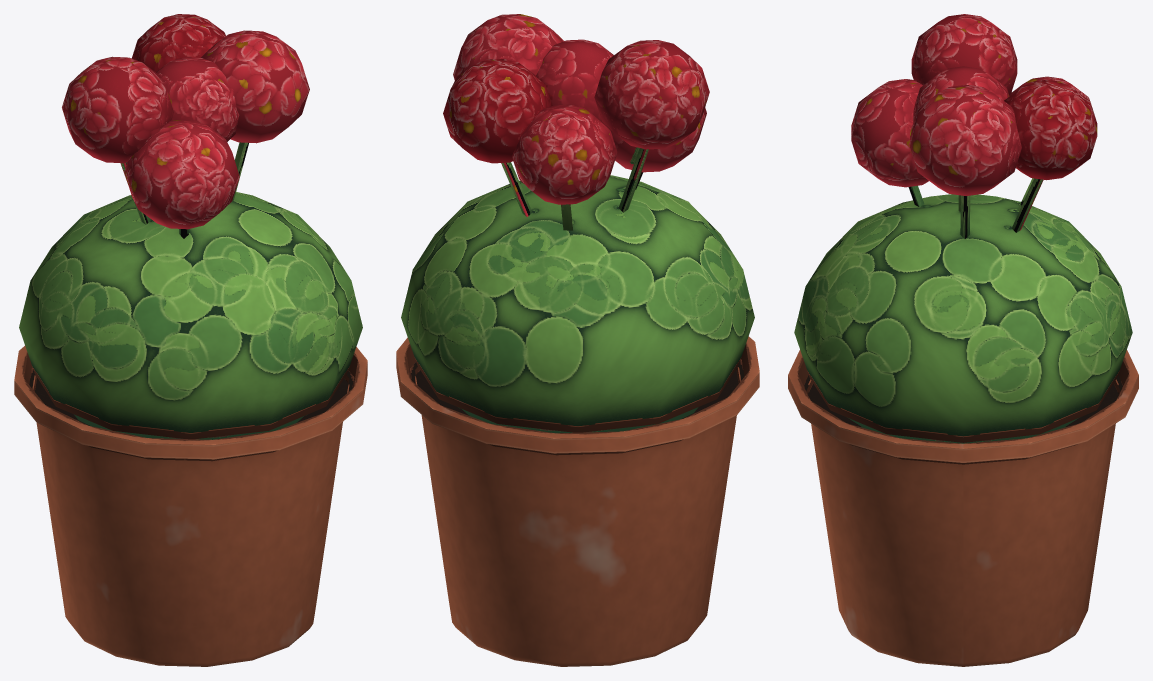
File: Flower_Pot_01.fbx
3 renders of one model, left to right at view 1: azimuth 30°, elevation 25°; view 2: azimuth 150°, elevation 25°; view 3: azimuth 270°, elevation 25°, orthographic. The views are drawn at different scales.
Visible parts, largest first — view 1: Flower_Pot_01; view 2: Flower_Pot_01; view 3: Flower_Pot_01.
Part boxes in pixels (<box>): Flower_Pot_01: <box>14,14,367,666</box>; Flower_Pot_01: <box>396,14,759,666</box>; Flower_Pot_01: <box>788,14,1138,666</box>.
Bounding box in the file's own units: 0.29 × 0.5124 × 0.29.
1 material, 1 textured.
